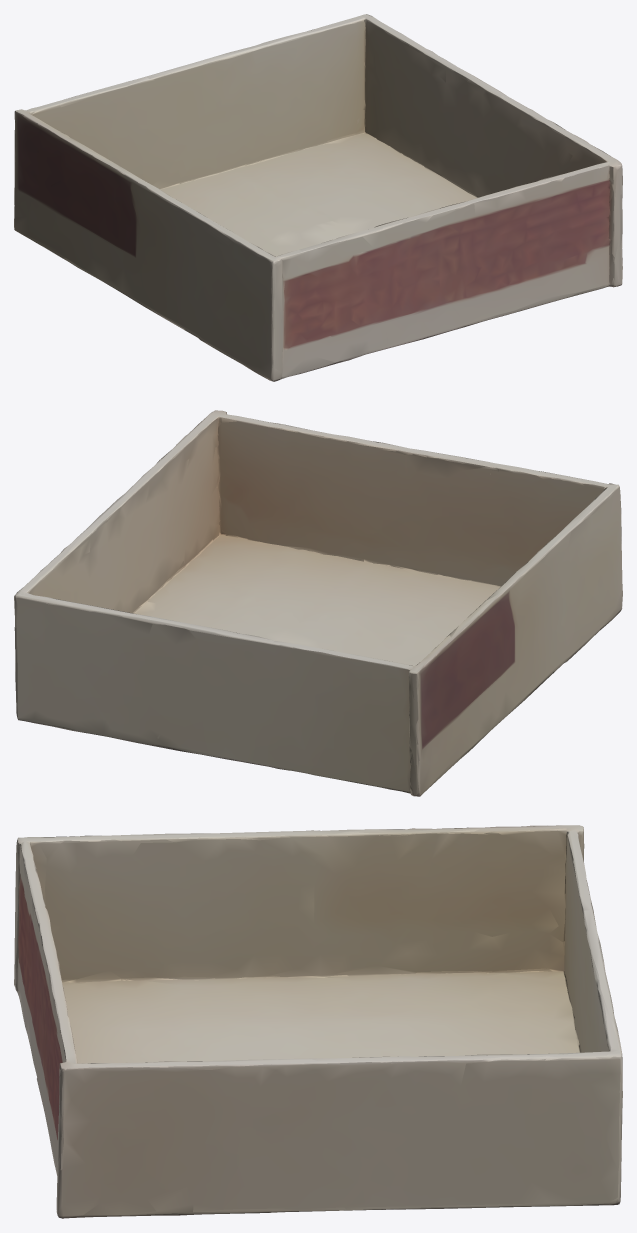
File: 0007_mask_008_wooden_box.glb
The picture shows the model from 3 angles, top to bottom: view 1: azimuth 30°, elevation 25°; view 2: azimuth 150°, elevation 25°; view 3: azimuth 270°, elevation 25°; orthographic projection. The views are drawn at different scales.
Visible parts, largest first — view 1: mask_008_object; view 2: mask_008_object; view 3: mask_008_object.
Boxes of the visible parts, bbox=[...] form: mask_008_object: bbox=[14, 14, 622, 381]; mask_008_object: bbox=[14, 410, 622, 796]; mask_008_object: bbox=[14, 825, 622, 1218].
Size of the model in its own units: 0.2035 by 0.0632 by 0.2128.
